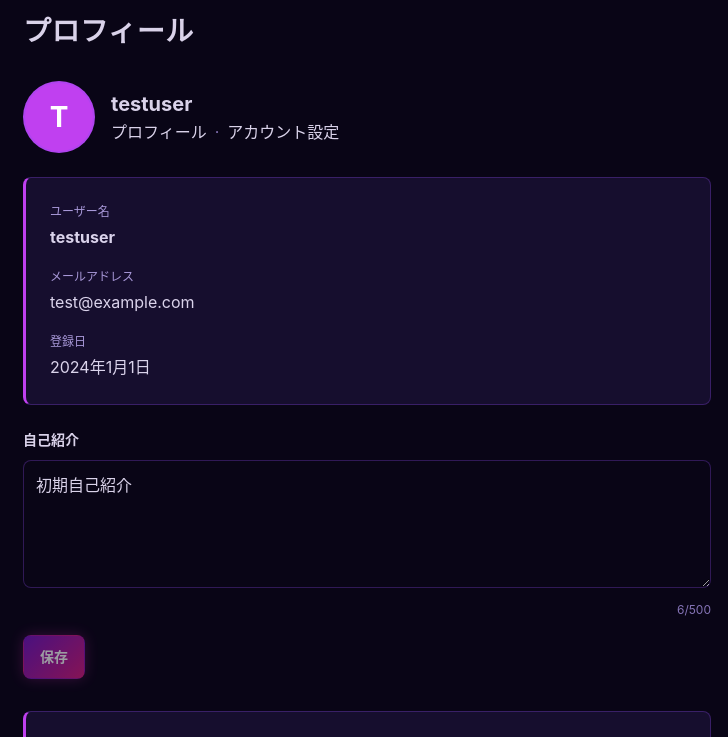
Scenario: ProfilePage › 保存成功時に成功メッセージが表示される
This screenshot has width=728, height=737.
Replace the text in the text box labelled "自己紹介" with "新しい自己紹介" at (367, 524), box [23,460,711,588]
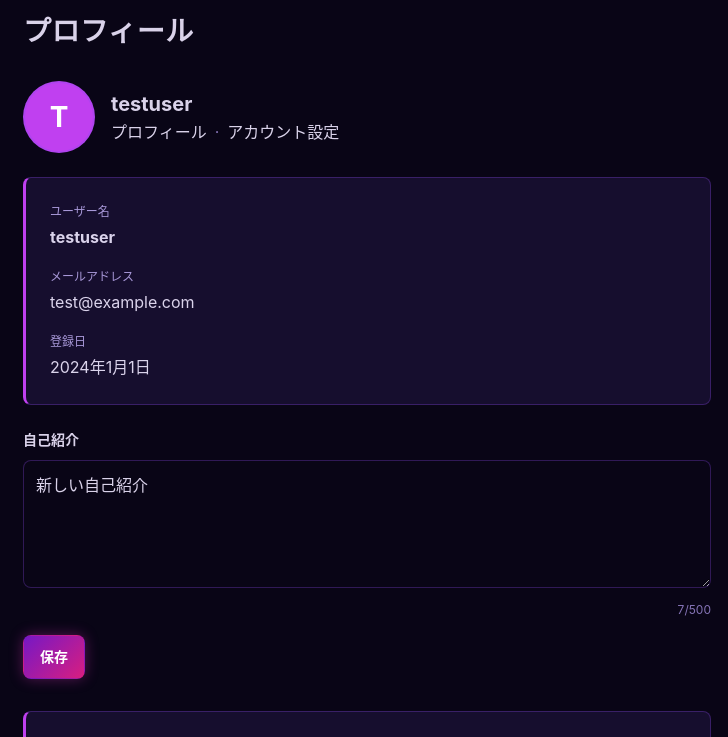
Click the button "保存" at (54, 657), box [23,635,85,679]
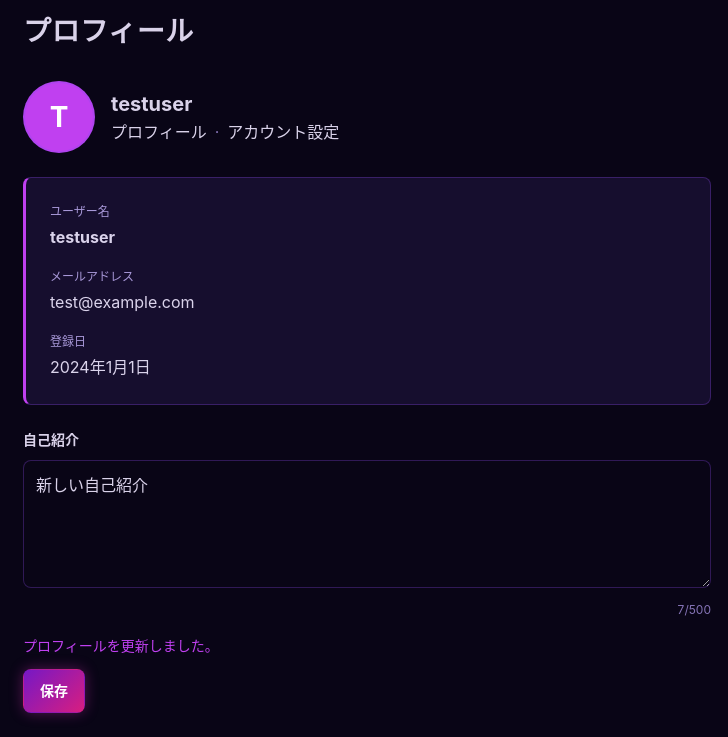
Result: the text "プロフィールを更新しました。" is shown at [23,637,219,654]
